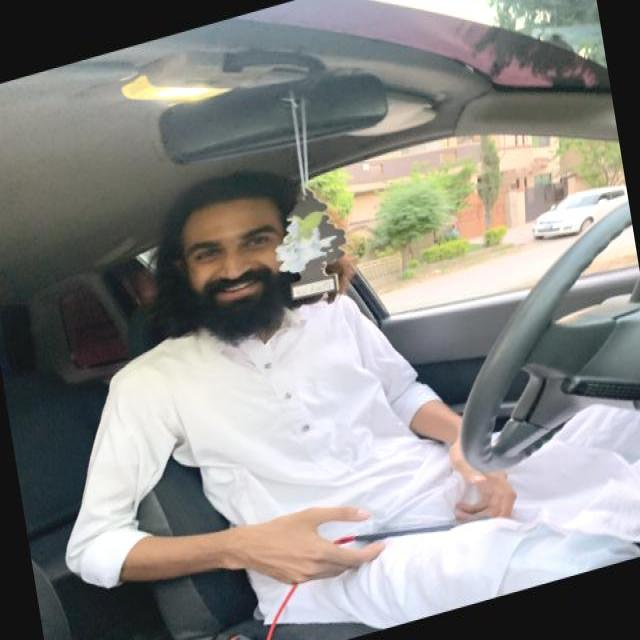no-seatbelt: (115, 325, 514, 612)
